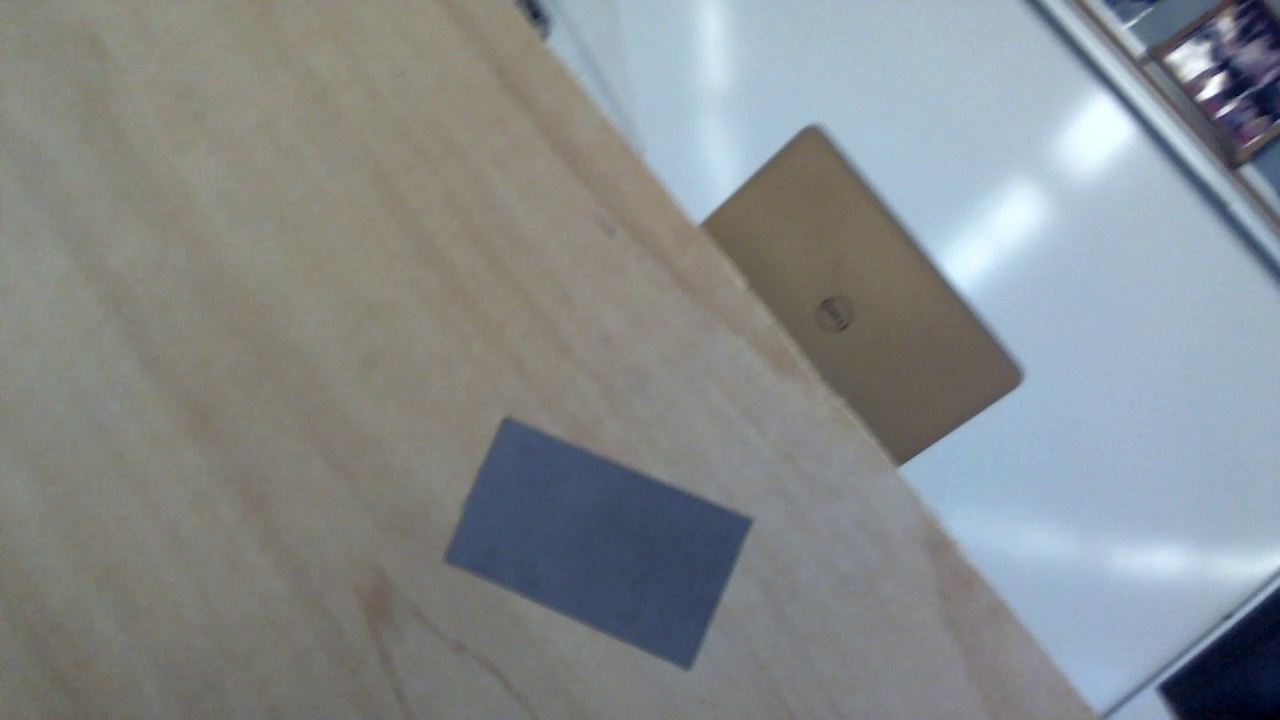Tape: (438, 418, 755, 671)
